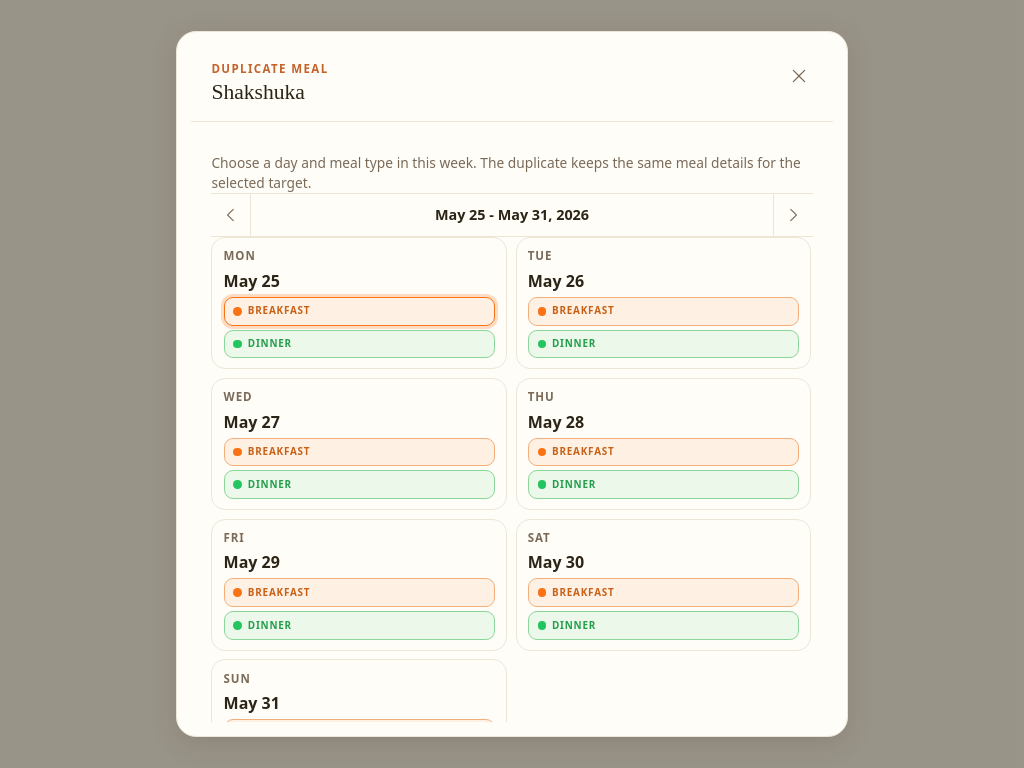
it: DuplicateMealModal › moves between future and current weeks without entering a past week
This screenshot has width=1024, height=768.
Click the button named "Previous week".
click(231, 215)  # box [211,194,251,236]
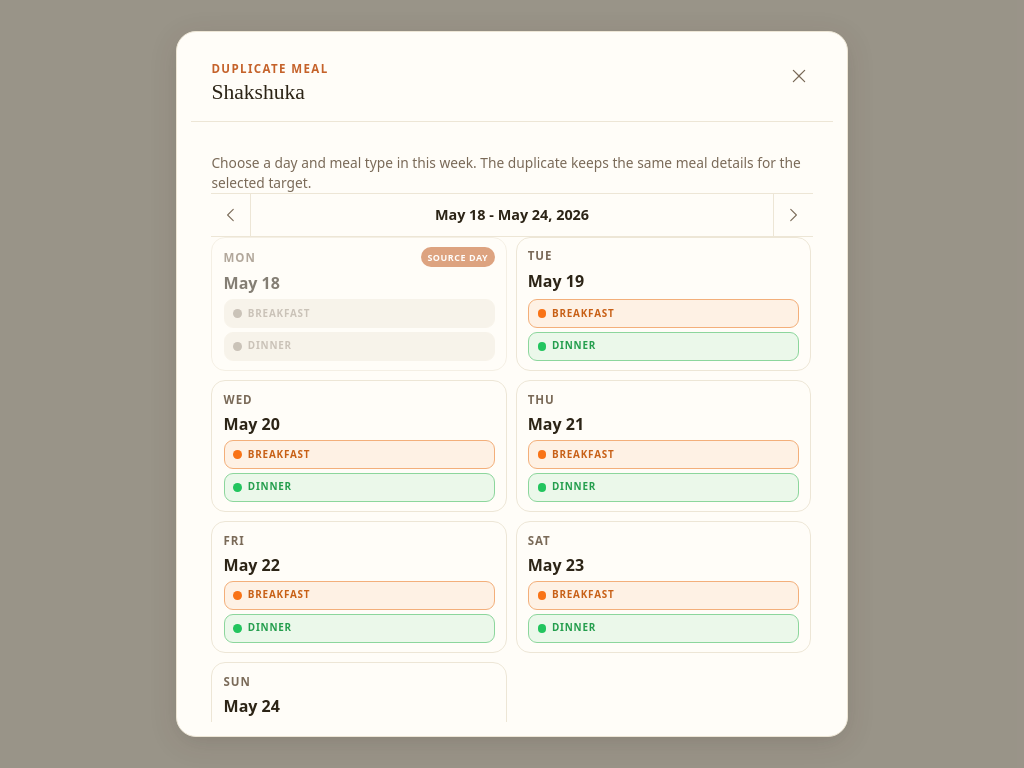
Click the button named "Previous week".
click(231, 215)  # box [211,194,251,236]
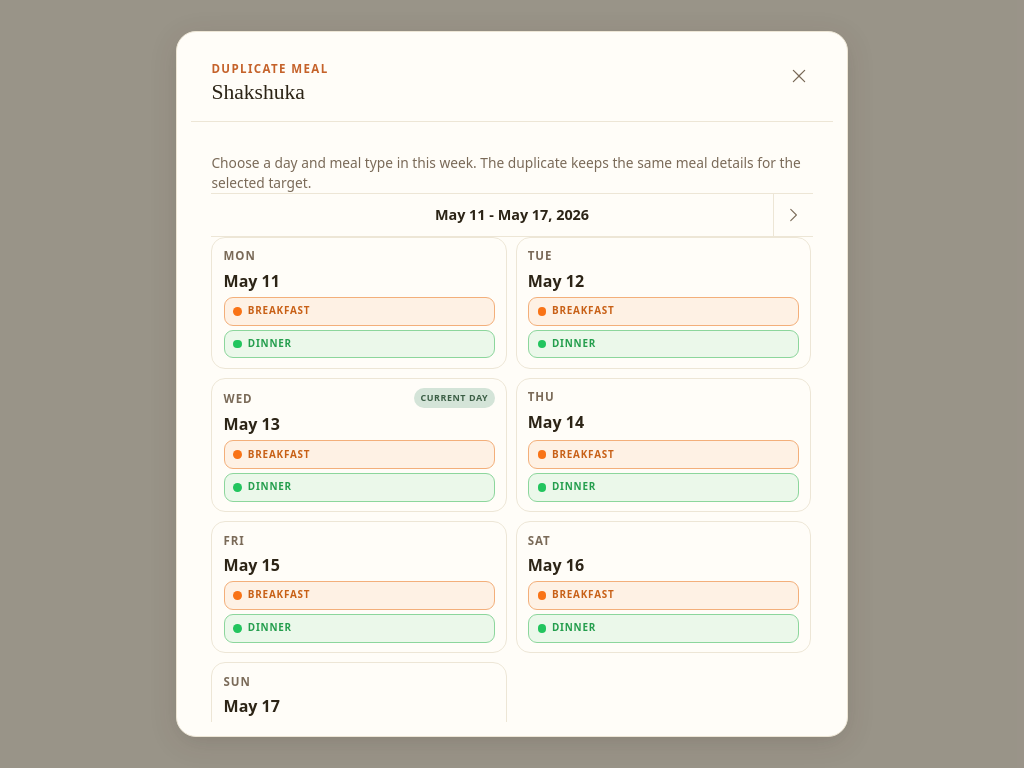
Click the button named "Next week".
click(793, 215)  # box [773,194,813,236]
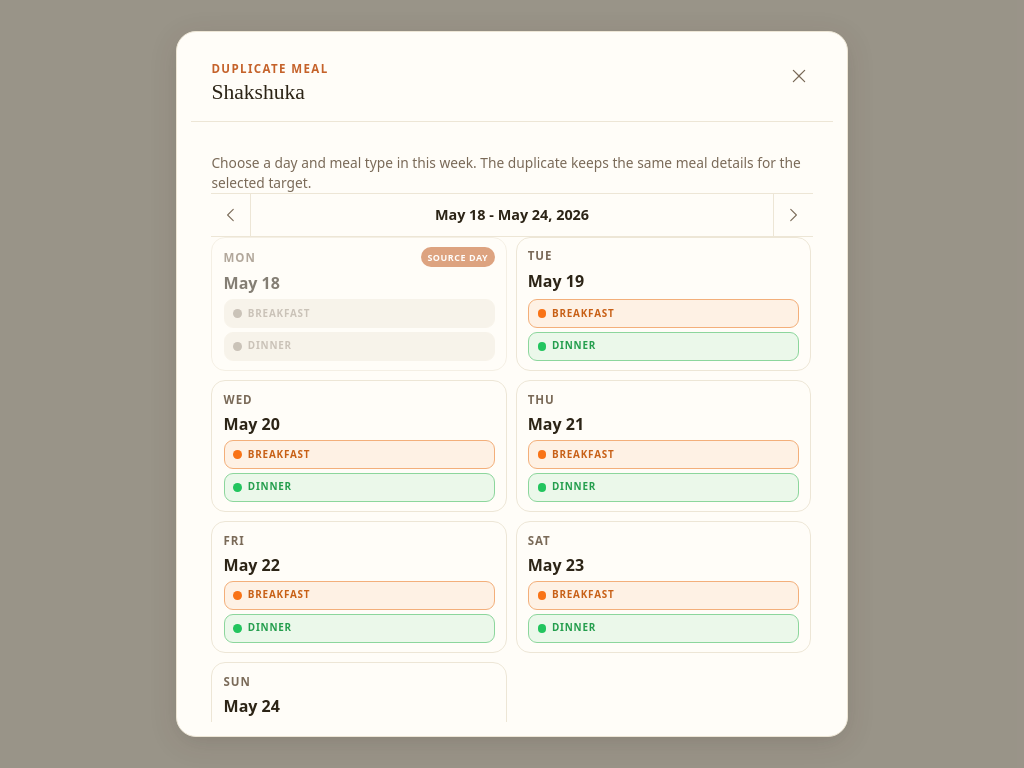
Expected: the button named "Previous week" is shown, [211,194,251,236]
